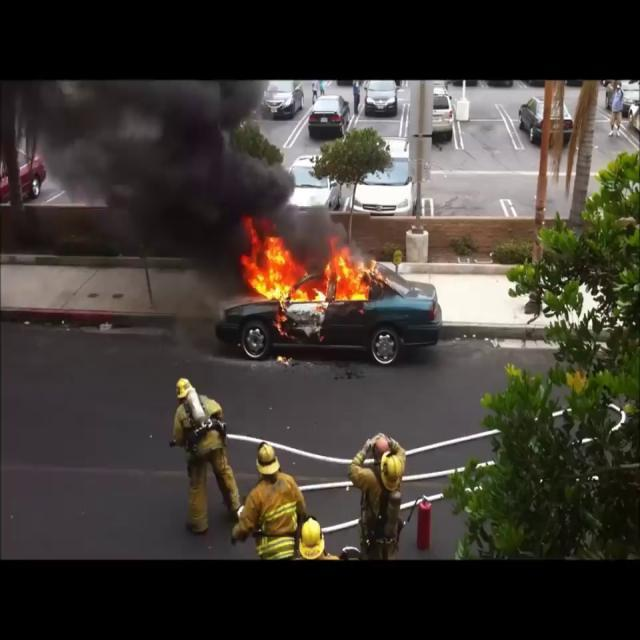Fire: (238, 230, 382, 312)
Smoke: (8, 80, 333, 280)
